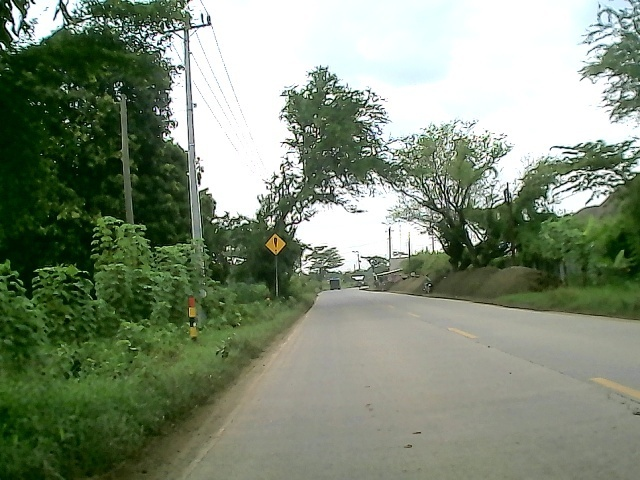Hati-hati: (264, 231, 286, 257)
